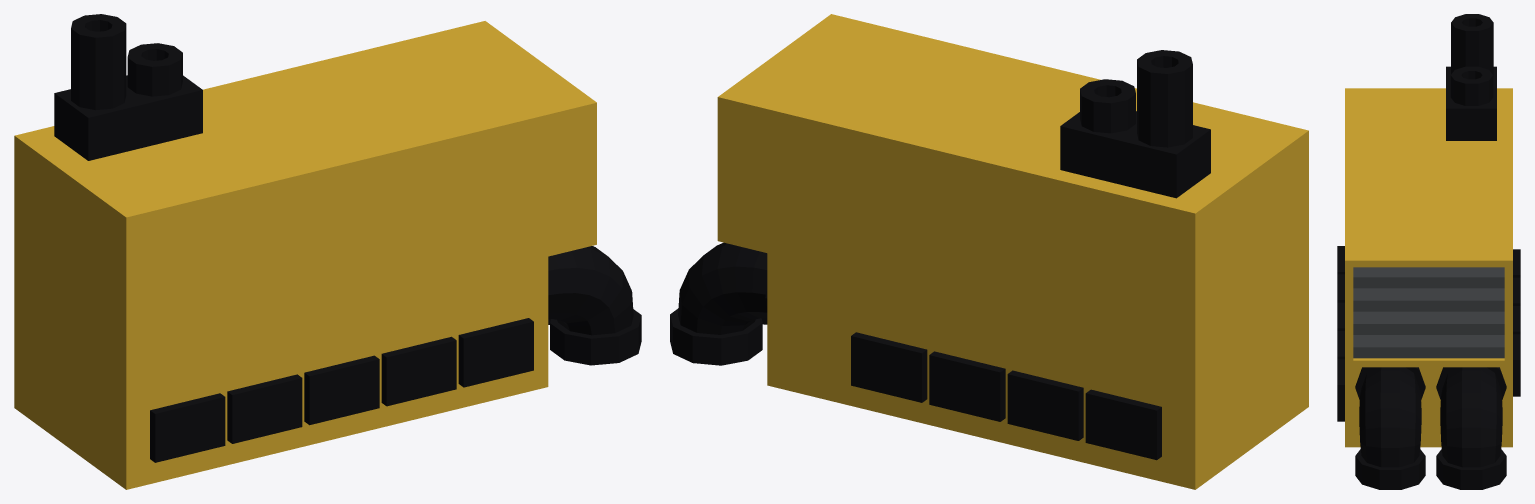
The model's file is Generator.fbx.
3 renders of one model, left to right at view 1: azimuth 30°, elevation 25°; view 2: azimuth 150°, elevation 25°; view 3: azimuth 270°, elevation 25°, orthographic. The views are drawn at different scales.
Parts seen in each view (by area): view 1: Generator; view 2: Generator; view 3: Generator.
Part boxes in pixels (<box>): Generator: <box>14,14,641,489</box>; Generator: <box>670,14,1308,489</box>; Generator: <box>1337,14,1520,489</box>.
Bounding box in the file's own units: 345 × 238 × 136.
